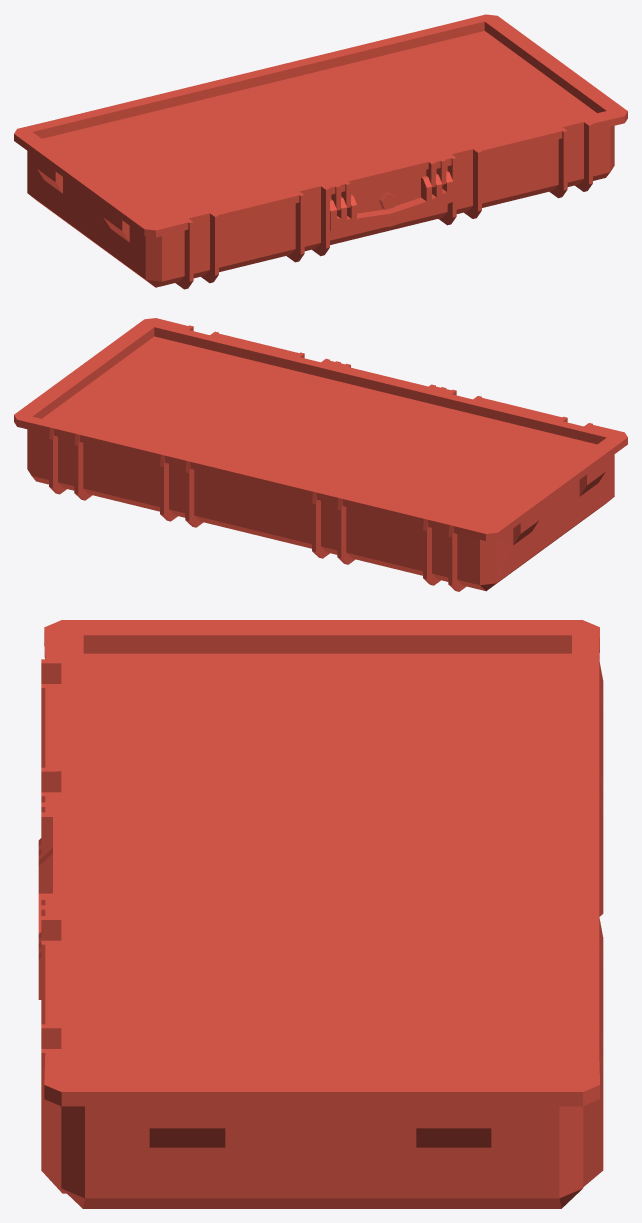
Rendered from SM_Box_Equipment_Sturdy_Big_Bottom.fbx.
3 renders of one model, top to bottom at view 1: azimuth 30°, elevation 25°; view 2: azimuth 150°, elevation 25°; view 3: azimuth 270°, elevation 25°, orthographic. The views are drawn at different scales.
Visible parts, largest first — view 1: SM_Box_Equipment_Sturdy_Big_Bottom; view 2: SM_Box_Equipment_Sturdy_Big_Bottom; view 3: SM_Box_Equipment_Sturdy_Big_Bottom.
Part boxes in pixels (x1,y1,x2,y2): SM_Box_Equipment_Sturdy_Big_Bottom: (14, 14, 627, 289); SM_Box_Equipment_Sturdy_Big_Bottom: (14, 318, 627, 591); SM_Box_Equipment_Sturdy_Big_Bottom: (38, 620, 603, 1208).
Bounding box in the file's own units: 41.48 × 82.06 × 11.4.
